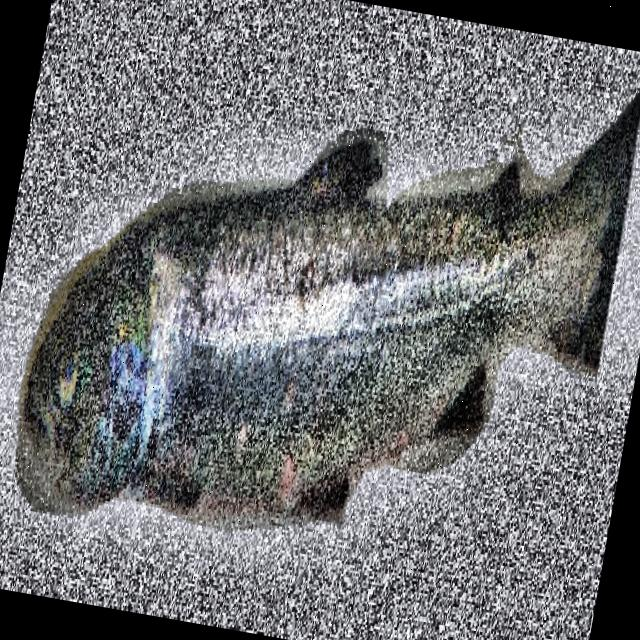mild_red: (97, 156, 556, 511)
